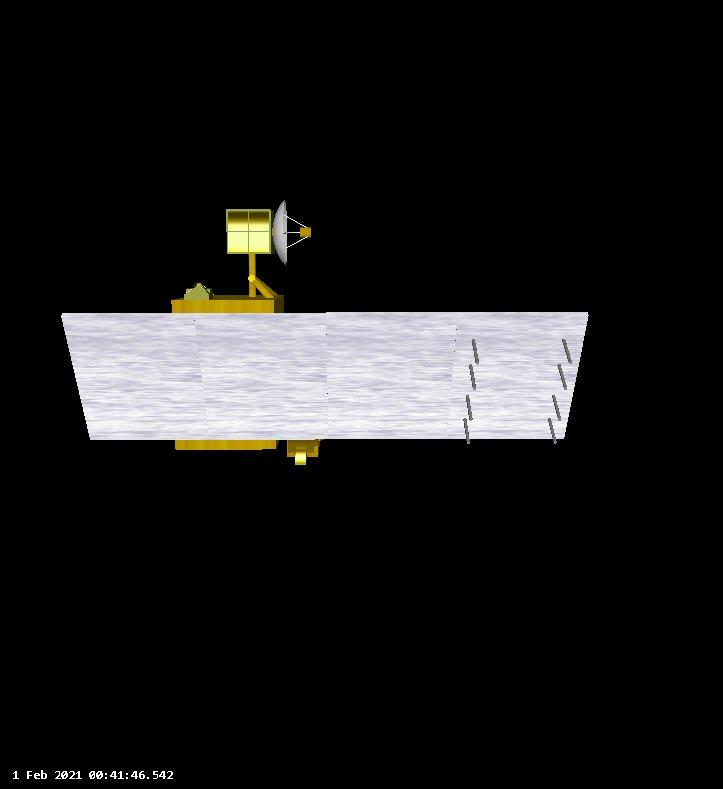antenna: (273, 196, 316, 268)
body: (169, 291, 287, 454)
solar: (56, 308, 591, 445)
